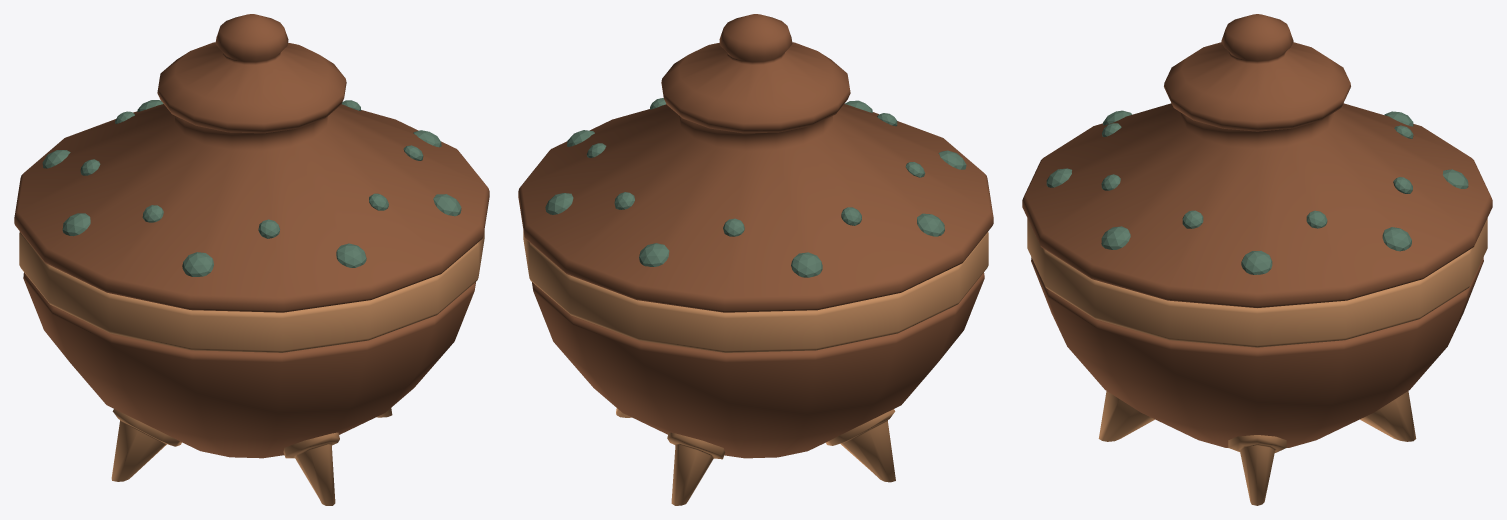
File: FBX_burner_01.fbx
3 views of the same model, side by side, from view 1: azimuth 30°, elevation 25°; view 2: azimuth 150°, elevation 25°; view 3: azimuth 270°, elevation 25° (orthographic).
Parts seen in each view (by area): view 1: Cylinder.030; view 2: Cylinder.030; view 3: Cylinder.030.
Part boxes in pixels (bbox=[...]): Cylinder.030: bbox=[14, 14, 489, 505]; Cylinder.030: bbox=[518, 14, 993, 505]; Cylinder.030: bbox=[1022, 14, 1492, 505].
Size of the model in its own units: 222 by 219 by 222.
